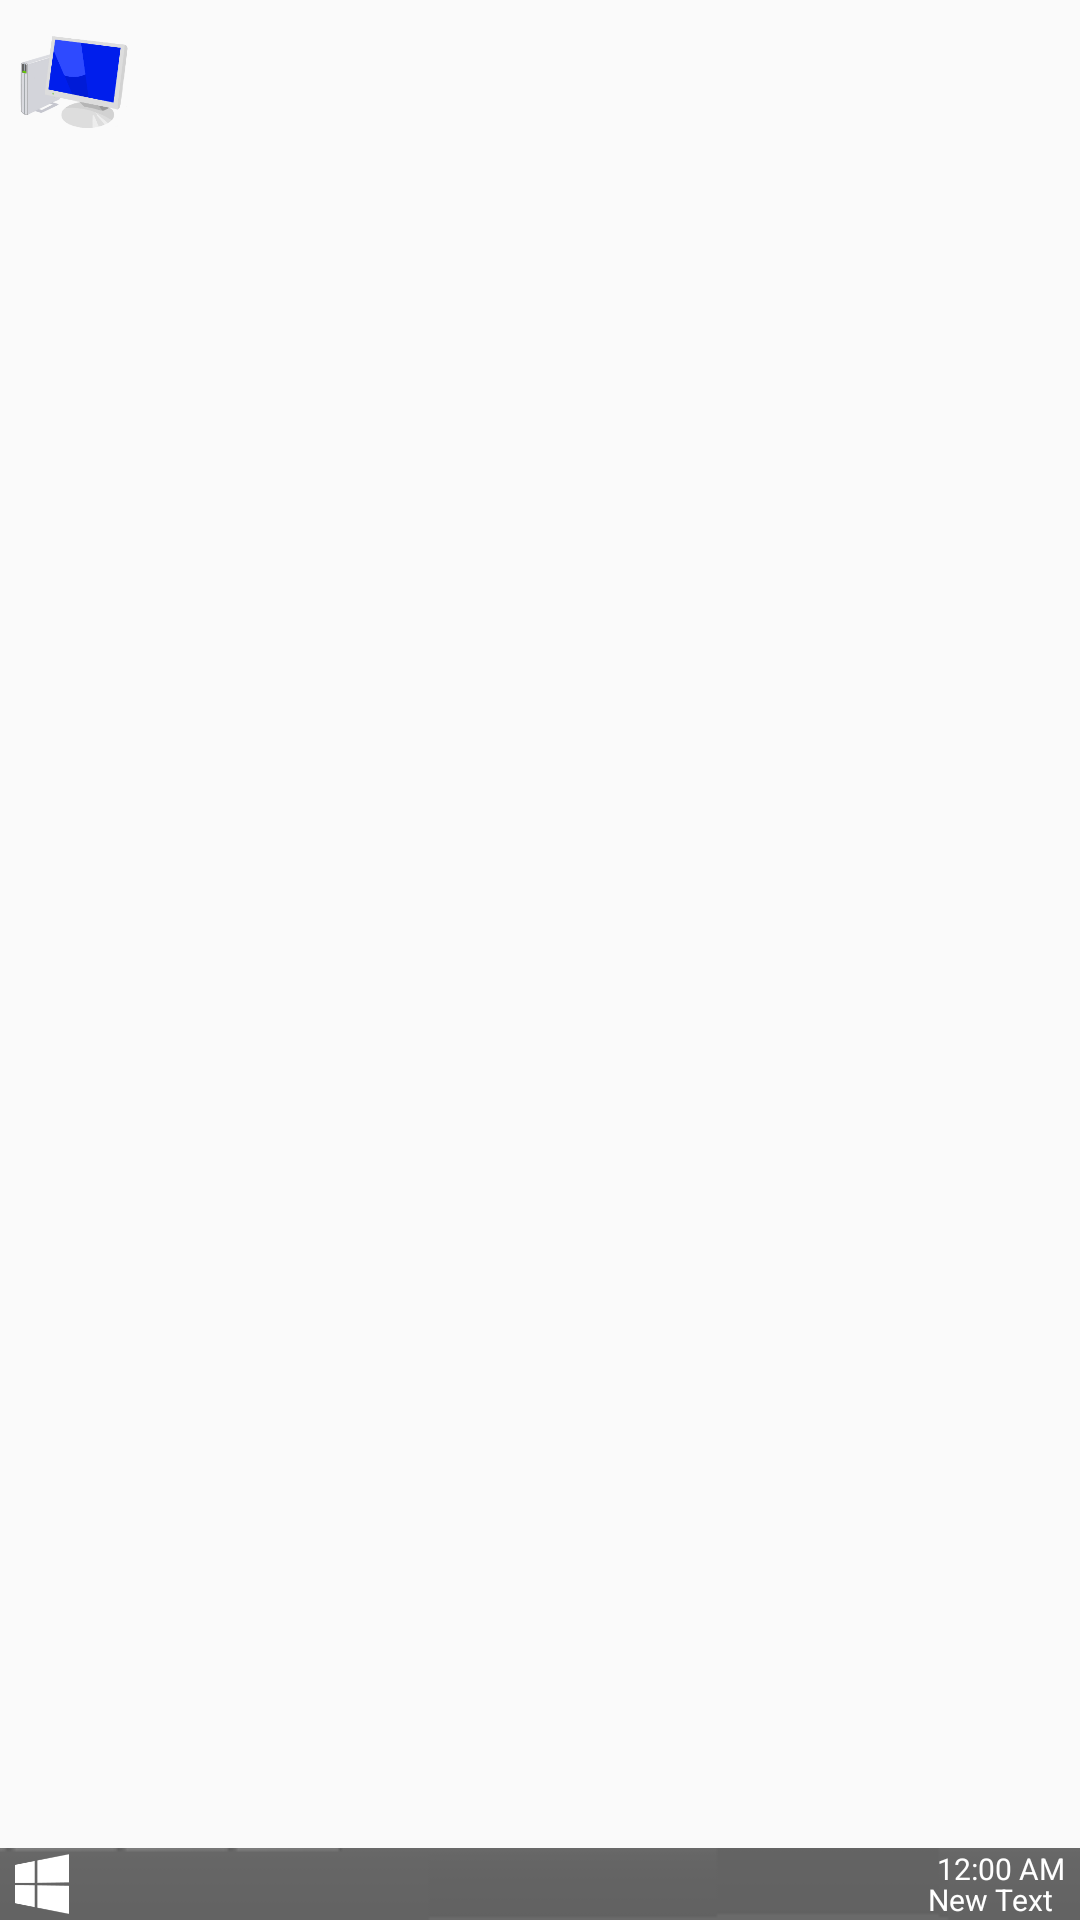

Icon bounding boxes for this 1080px x 1920px phone screenshot, format [x1,y1,x2,y2]:
mycomp: [21,37,127,128]
